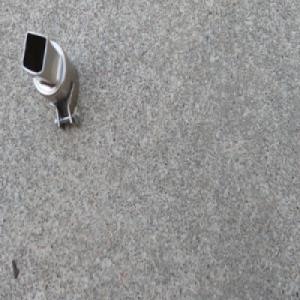MetalPart: (20, 29, 83, 134)
